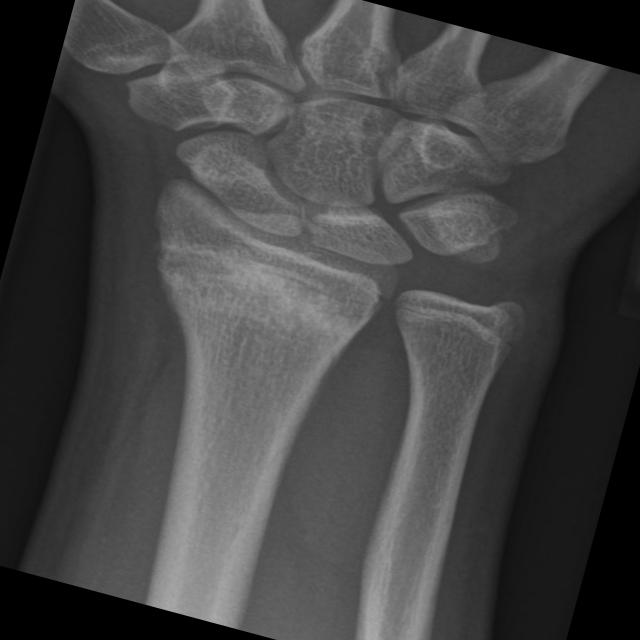fracture: (126, 224, 394, 362), (368, 278, 548, 376)
